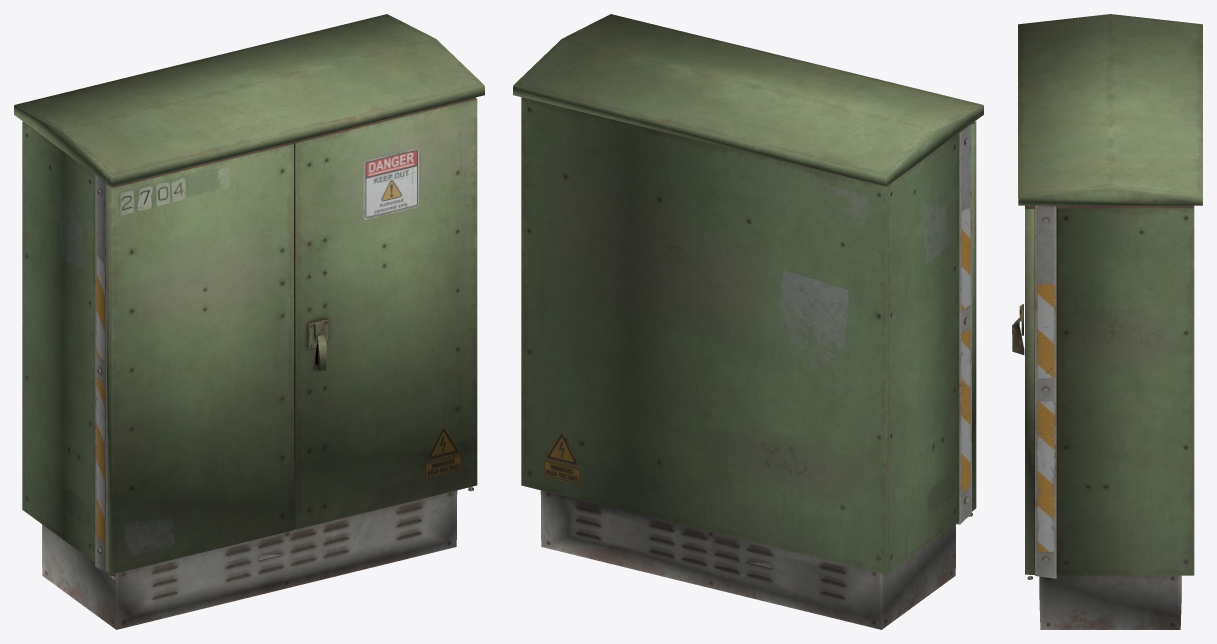
File: utility_box_02_opt.gltf
3 views of the same model, side by side, from view 1: azimuth 30°, elevation 25°; view 2: azimuth 150°, elevation 25°; view 3: azimuth 270°, elevation 25° (orthographic). The views are drawn at different scales.
Visible parts, largest first — view 1: utility_box_02; view 2: utility_box_02; view 3: utility_box_02.
Part boxes in pixels (left/top/right/bottom): utility_box_02: left=14, top=14, right=484, bottom=629; utility_box_02: left=513, top=14, right=983, bottom=629; utility_box_02: left=1012, top=14, right=1202, bottom=629.
Size of the model in its own units: 0.9165 by 1.12 by 0.4287.
Materials: 1 (1 with a texture image).
